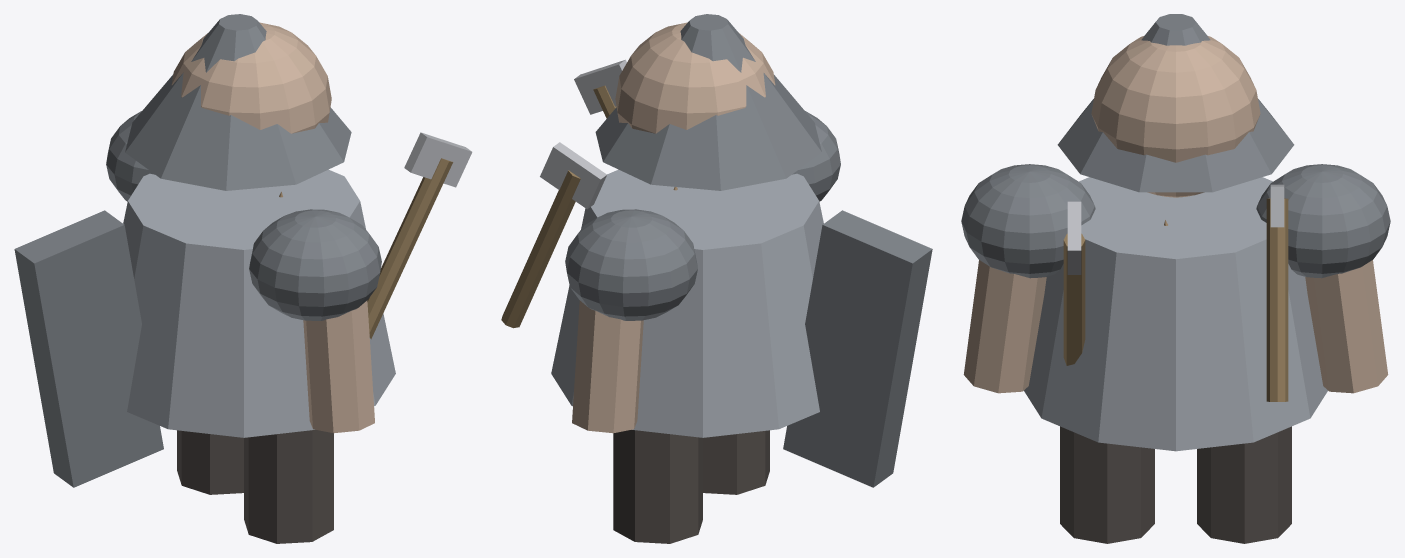
File: hero_brakkar_0.glb
3 renders of one model, left to right at view 1: azimuth 30°, elevation 25°; view 2: azimuth 150°, elevation 25°; view 3: azimuth 270°, elevation 25°, orthographic. The views are drawn at different scales.
Visible parts, largest first — view 1: figurka; view 2: figurka; view 3: figurka.
Boxes of the visible parts, left/top/right/bottom form: figurka: left=14, top=14, right=472, bottom=543; figurka: left=501, top=14, right=932, bottom=543; figurka: left=961, top=14, right=1390, bottom=543.
Size of the model in its own units: 0.6894 by 0.804 by 0.6345.
